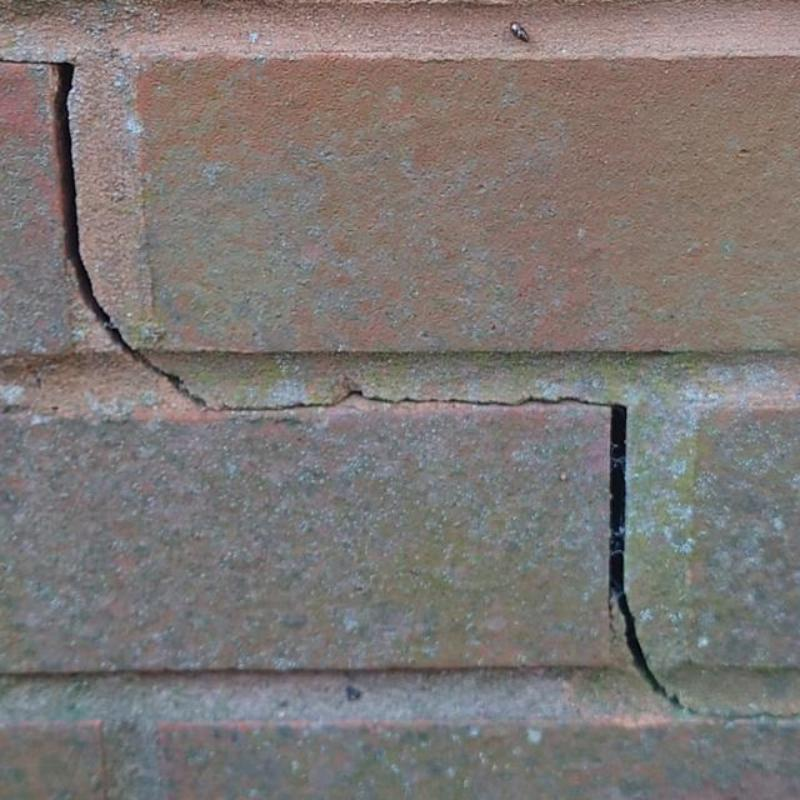pothole: (0, 59, 799, 719)
